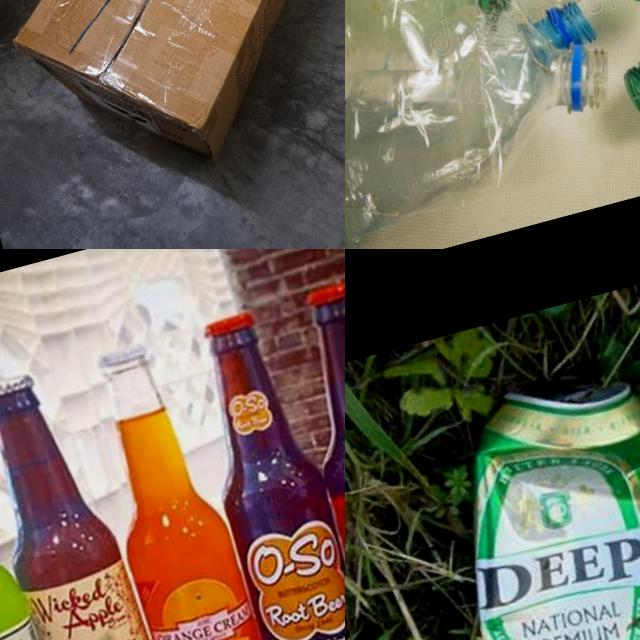garrafa de vidro: (73, 331, 285, 640), (174, 299, 345, 640), (0, 356, 188, 640), (278, 271, 345, 640), (0, 386, 89, 640)
garrafa plástica: (345, 0, 638, 249), (345, 0, 619, 193)
lata: (417, 351, 640, 640)
papelão: (0, 0, 345, 203)
